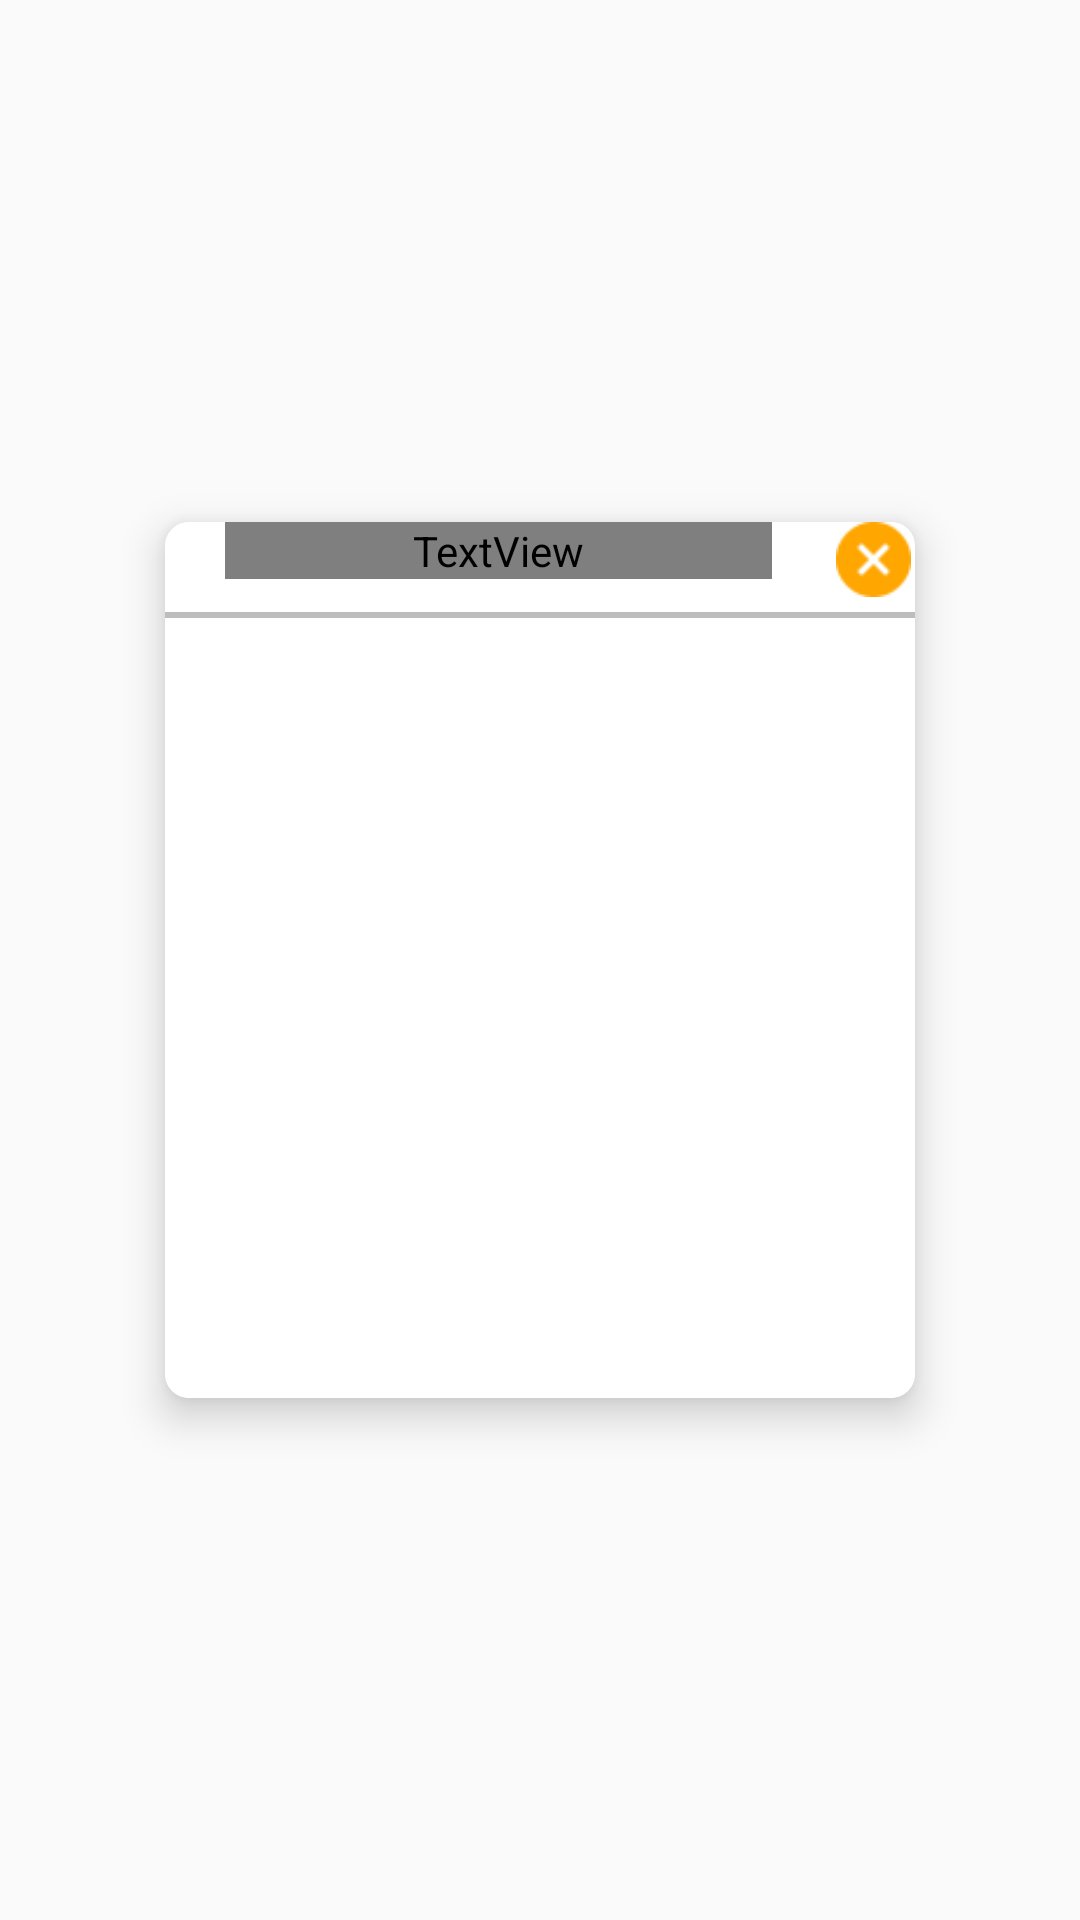

Named icons in this screenshot (1080w x 1920h) and their bounding boxes, (x1, y1, x2, y2):
close: (836, 522, 911, 597)
